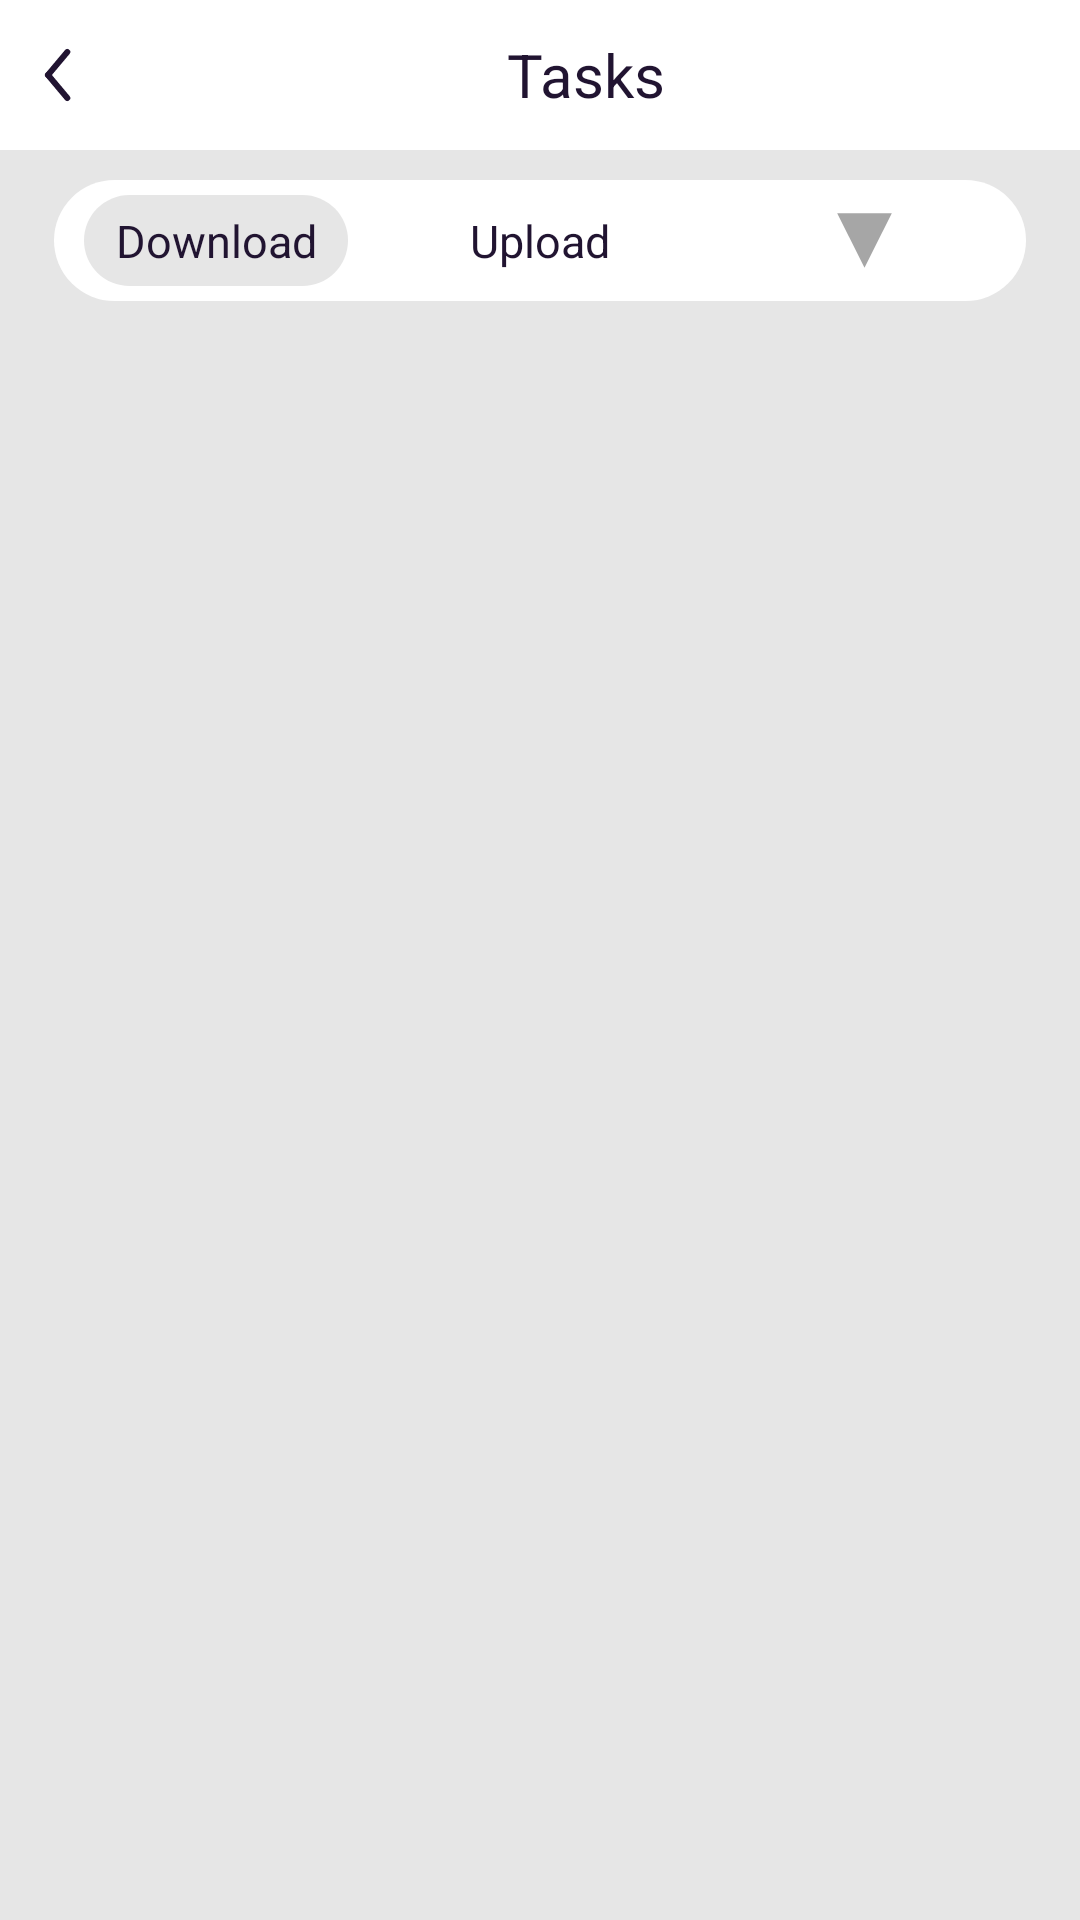

Icons on this 1080×1920 Android screen, each with its box as box=[x1, y1, x2, y2]:
backer: box=[44, 49, 71, 101]
page task more: box=[837, 213, 892, 268]
